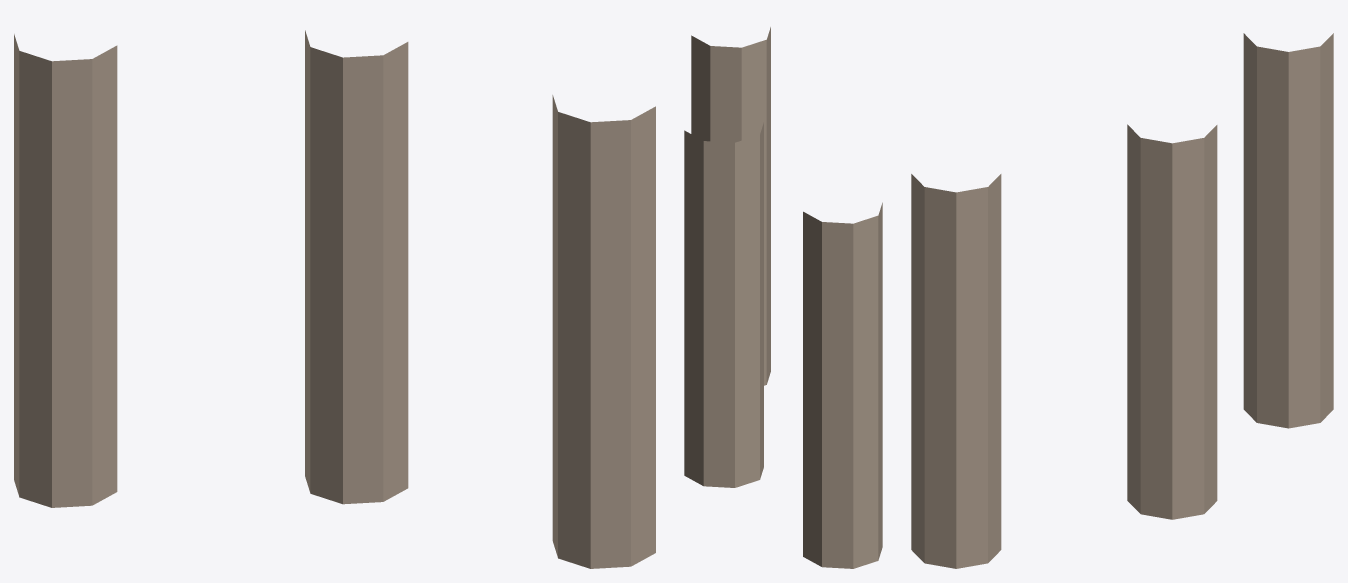
File: Beach_Prop_Docks_Corner_Supports.glb
3 views of the same model, side by side, from view 1: azimuth 30°, elevation 25°; view 2: azimuth 150°, elevation 25°; view 3: azimuth 270°, elevation 25° (orthographic). The views are drawn at different scales.
Visible parts, largest first — view 1: Beach_Prop_Docks_Corner_Supports; view 2: Beach_Prop_Docks_Corner_Supports; view 3: Beach_Prop_Docks_Corner_Supports.
Boxes of the visible parts, x1=… form: Beach_Prop_Docks_Corner_Supports: x1=14, y1=30, x2=655, y2=568; Beach_Prop_Docks_Corner_Supports: x1=684, y1=27, x2=882, y2=568; Beach_Prop_Docks_Corner_Supports: x1=911, y1=33, x2=1333, y2=568.
Size of the model in its own units: 1.02 by 1 by 1.02.
